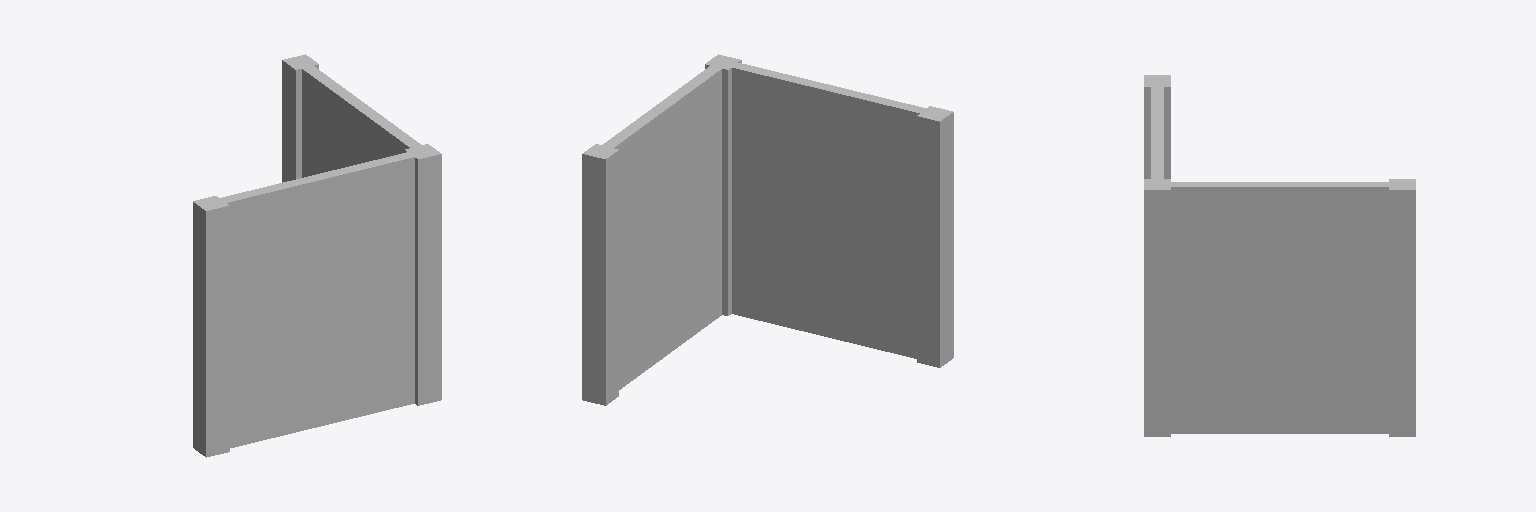
File: wall-wood-corner.obj
3 views of the same model, side by side, from view 1: azimuth 30°, elevation 25°; view 2: azimuth 150°, elevation 25°; view 3: azimuth 270°, elevation 25° (orthographic).
Visible parts, largest first — view 1: wall-wood-corner; view 2: wall-wood-corner; view 3: wall-wood-corner.
Part boxes in pixels (x1,y1,x2,y2): wall-wood-corner: (193,54,441,457); wall-wood-corner: (582,54,953,405); wall-wood-corner: (1144,75,1415,436).
Bounding box in the file's own units: 1 × 1 × 1.